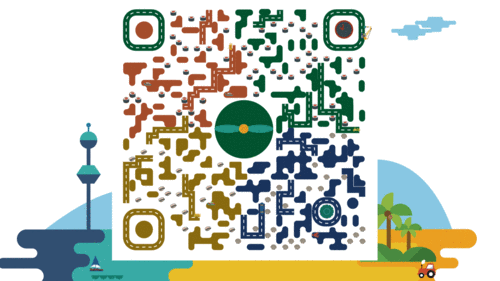QRCode: (119, 4, 372, 257)
